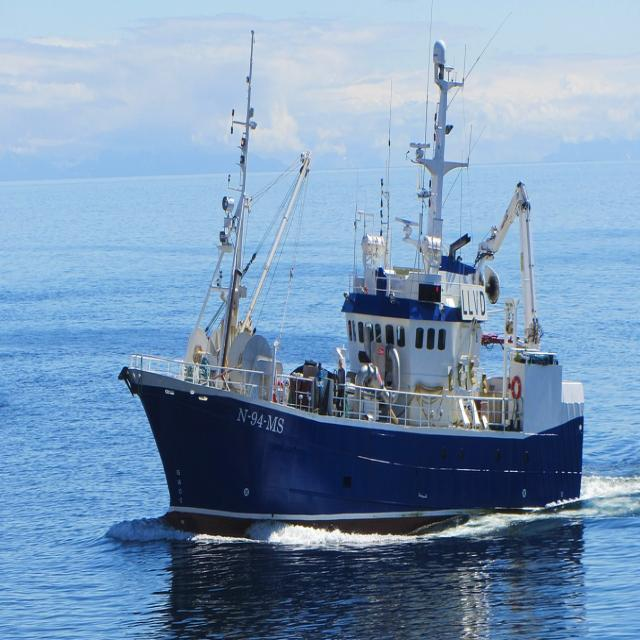boat: (111, 16, 611, 582)
